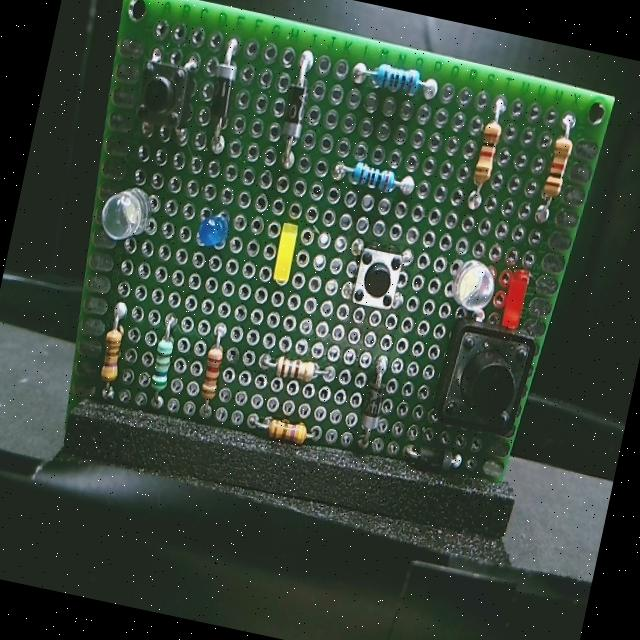diode: (190, 50, 248, 150), (269, 62, 319, 170), (354, 371, 391, 444), (406, 442, 464, 482)
led: (245, 214, 309, 296), (92, 178, 160, 250), (485, 258, 544, 338), (440, 258, 503, 324), (187, 208, 238, 250)
resistor: (453, 101, 513, 210), (84, 310, 140, 396), (338, 144, 414, 206), (533, 128, 576, 222), (257, 341, 331, 392), (138, 326, 185, 402), (194, 334, 238, 414), (362, 52, 432, 100), (252, 404, 314, 452)
switch: (430, 312, 541, 449), (125, 49, 196, 138), (342, 237, 412, 326)
